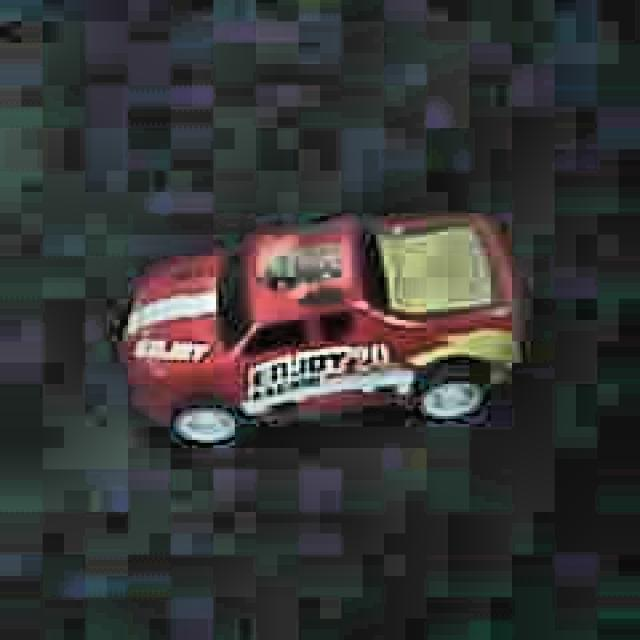car: (108, 201, 531, 457)
